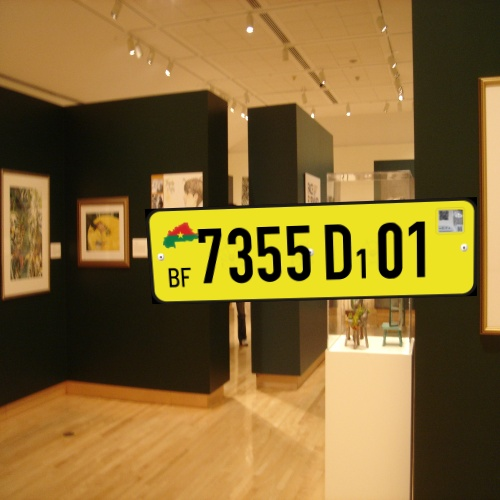plate: (134, 194, 484, 316)
